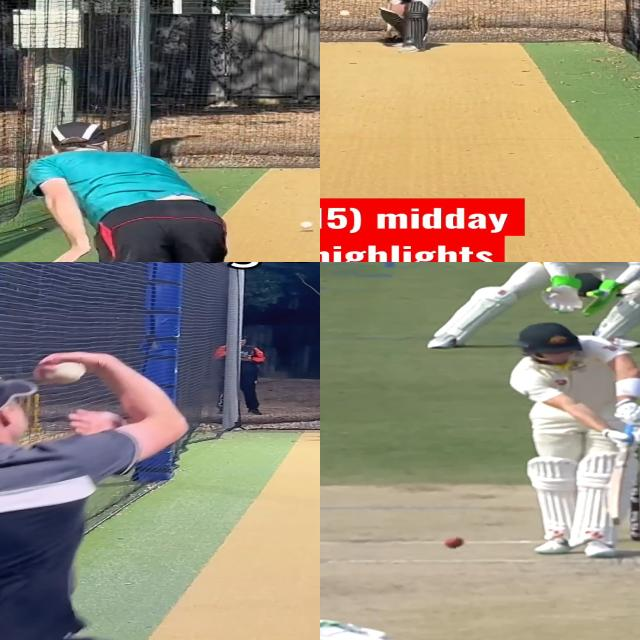Cricket ball: (40, 357, 100, 389), (442, 536, 466, 550), (298, 220, 314, 230), (338, 9, 352, 17)
